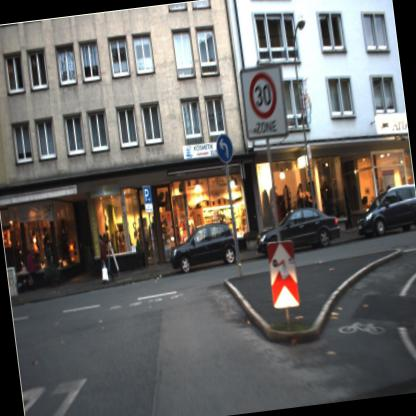mandatory: (211, 129, 237, 169)
prohibitory: (238, 67, 289, 145)
